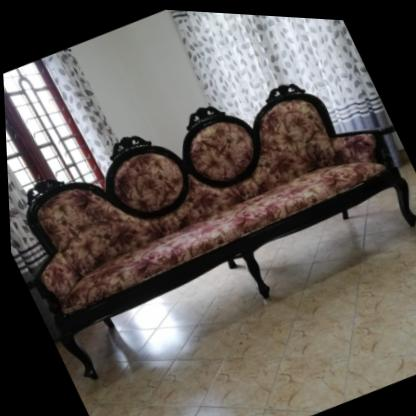Ceramic floor: (55, 188, 416, 416), (114, 182, 416, 366)
Curtains: (167, 8, 405, 162), (40, 46, 117, 175), (6, 163, 46, 284)
Sofa: (1, 29, 416, 399)
